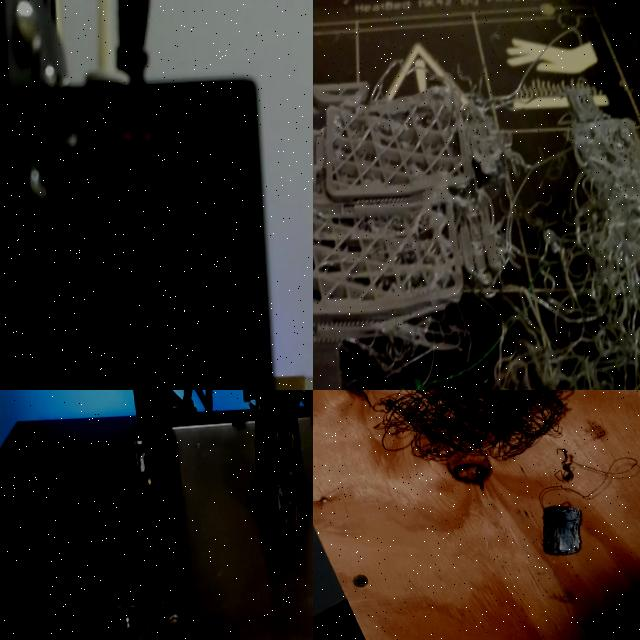spaghetti: (430, 2, 640, 390), (313, 390, 580, 501)
